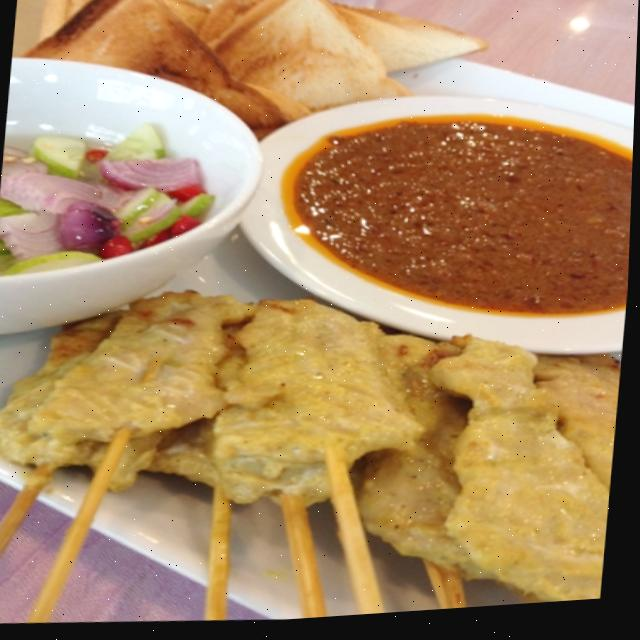牛肉菜式: (0, 229, 632, 640)
